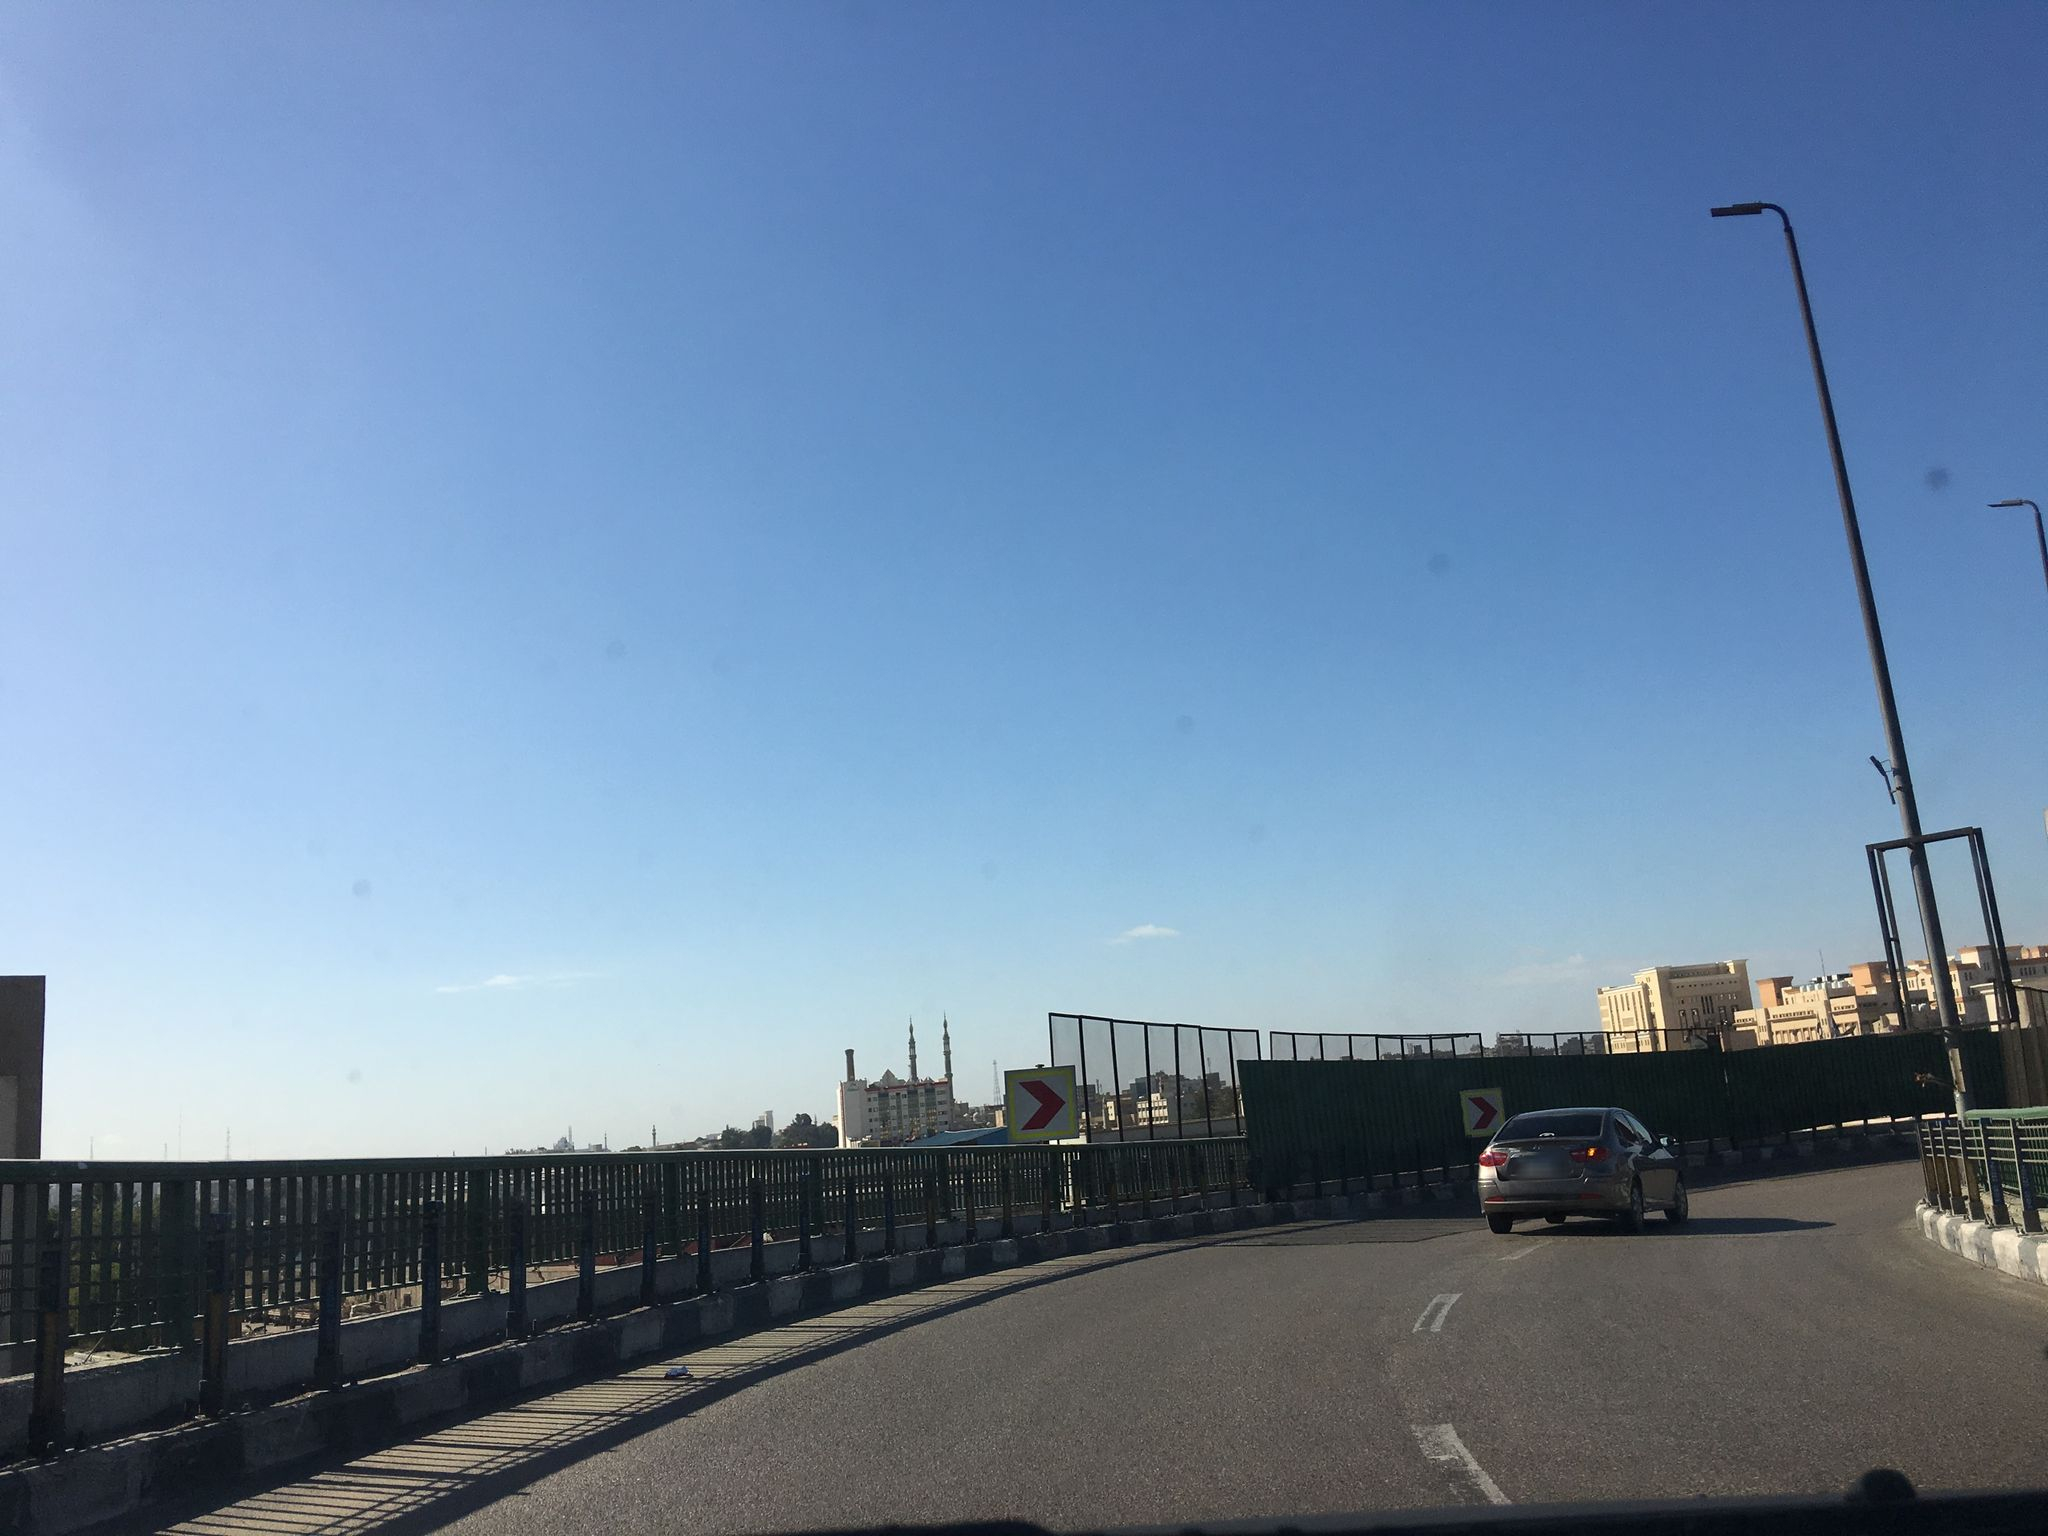car: (1476, 1107, 1688, 1231)
